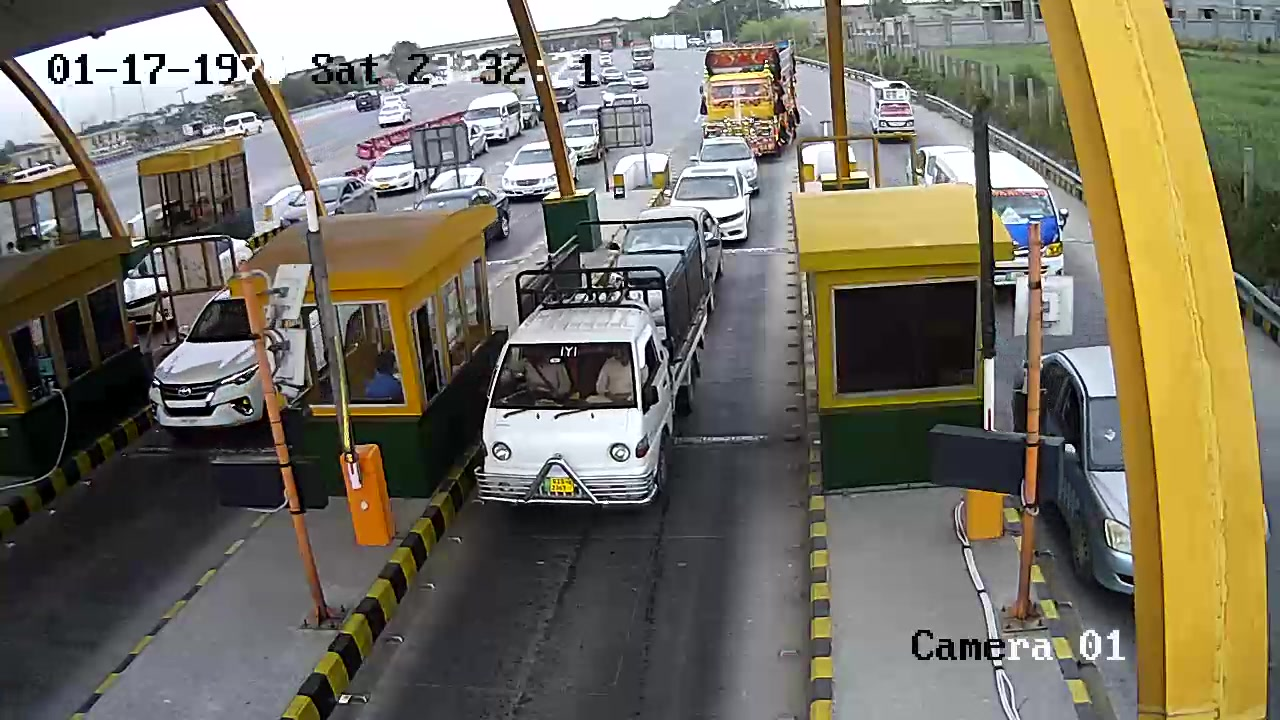F2: (472, 212, 728, 517)
